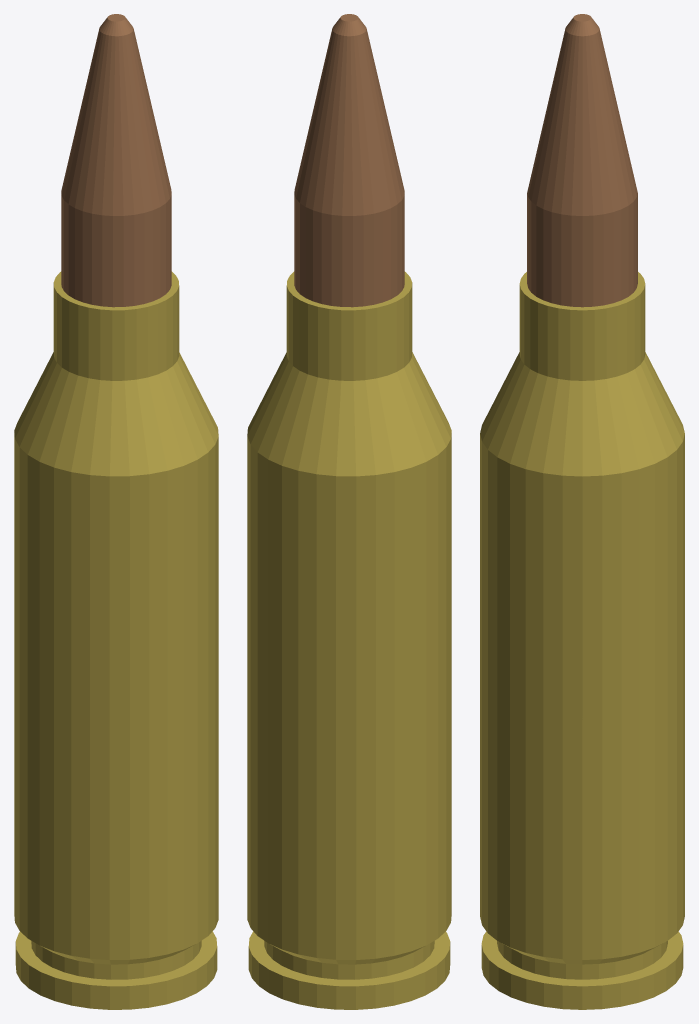
The model's file is bullet_sniper.fbx.
3 renders of one model, left to right at view 1: azimuth 30°, elevation 25°; view 2: azimuth 150°, elevation 25°; view 3: azimuth 270°, elevation 25°, orthographic.
Visible parts, largest first — view 1: Cylinder; view 2: Cylinder; view 3: Cylinder.
Part boxes in pixels (left/top/right/bottom): Cylinder: left=14, top=14, right=218, bottom=1009; Cylinder: left=247, top=14, right=451, bottom=1009; Cylinder: left=480, top=14, right=684, bottom=1009.
Size of the model in its own units: 57.17 by 292 by 57.17.
